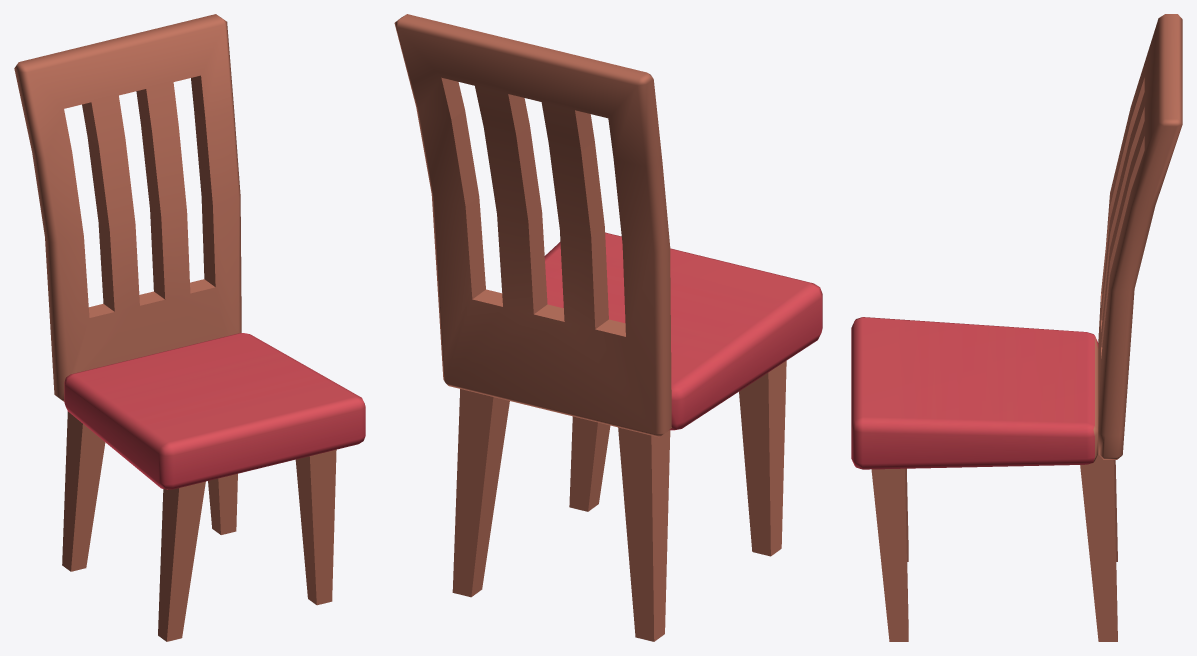
The model's file is SM_Chair_Dining_1_01.fbx.
3 views of the same model, side by side, from view 1: azimuth 30°, elevation 25°; view 2: azimuth 150°, elevation 25°; view 3: azimuth 270°, elevation 25° (orthographic). The views are drawn at different scales.
Parts seen in each view (by area): view 1: SM_Chair_Dining_1_01; view 2: SM_Chair_Dining_1_01; view 3: SM_Chair_Dining_1_01.
Part boxes in pixels (bbox=[...]): SM_Chair_Dining_1_01: bbox=[14, 14, 365, 641]; SM_Chair_Dining_1_01: bbox=[394, 14, 822, 641]; SM_Chair_Dining_1_01: bbox=[851, 14, 1182, 641].
Size of the model in its own units: 65.06 by 146 by 82.63.
